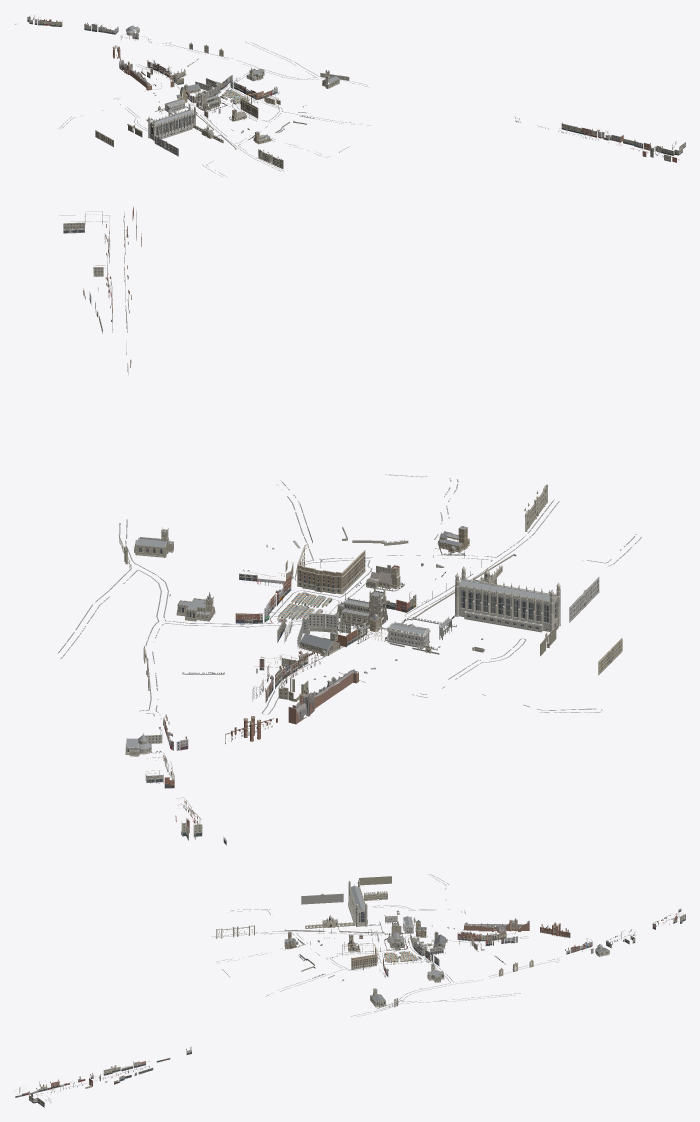
Rendered from market_square.glb.
3 renders of one model, top to bottom at view 1: azimuth 30°, elevation 25°; view 2: azimuth 150°, elevation 25°; view 3: azimuth 270°, elevation 25°, orthographic. The views are drawn at different scales.
Parts seen in each view (by area): view 1: kingschapel:south, trinity:range_body; view 2: kingschapel:north, trinity:range_body, guildhall:front; view 3: trinity:range_body, kings:gibbs_west.
Boxes of the visible parts, left/top/right/bottom form: kingschapel:south: left=155, top=112, right=194, bottom=139; trinity:range_body: left=119, top=60, right=151, bottom=90; kingschapel:north: left=459, top=584, right=549, bottom=632; trinity:range_body: left=288, top=669, right=358, bottom=724; guildhall:front: left=297, top=560, right=340, bottom=594; trinity:range_body: left=464, top=918, right=529, bottom=933; kings:gibbs_west: left=301, top=893, right=343, bottom=904.
Bounding box in the file's own units: 954 × 47.65 × 1141.
